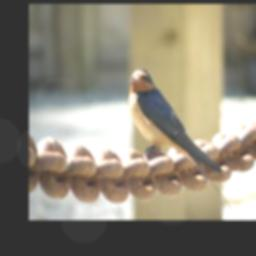Swallow: (126, 68, 236, 214)
